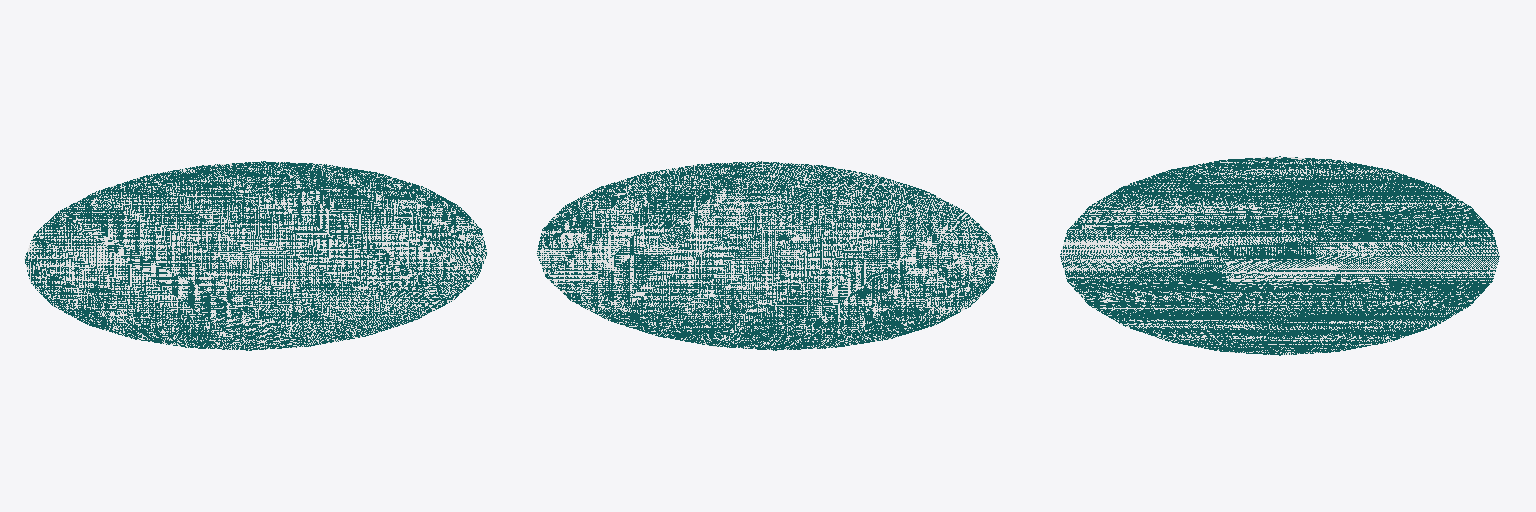
The model's file is original-109.obj.
3 views of the same model, side by side, from view 1: azimuth 30°, elevation 25°; view 2: azimuth 150°, elevation 25°; view 3: azimuth 270°, elevation 25° (orthographic).
Parts seen in each view (by area): view 1: mesh280/mesh280-geometry#mesh280-geometry; view 2: mesh280/mesh280-geometry#mesh280-geometry; view 3: mesh280/mesh280-geometry#mesh280-geometry.
Boxes of the visible parts, <box> form: mesh280/mesh280-geometry#mesh280-geometry: <box>24,161,487,350</box>; mesh280/mesh280-geometry#mesh280-geometry: <box>536,161,999,350</box>; mesh280/mesh280-geometry#mesh280-geometry: <box>1060,156,1499,355</box>.
Bounding box in the file's own units: 0.0038 × 0 × 0.0036.